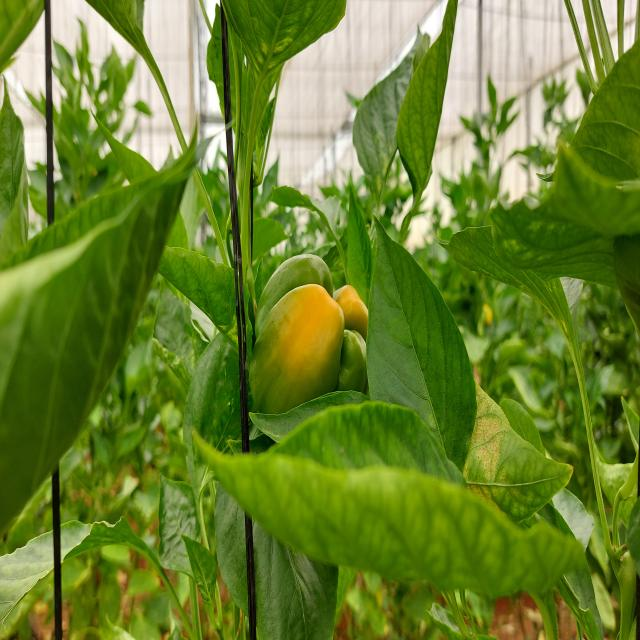GreenishYellow--Can-be-Harvested: (253, 243, 379, 470)
